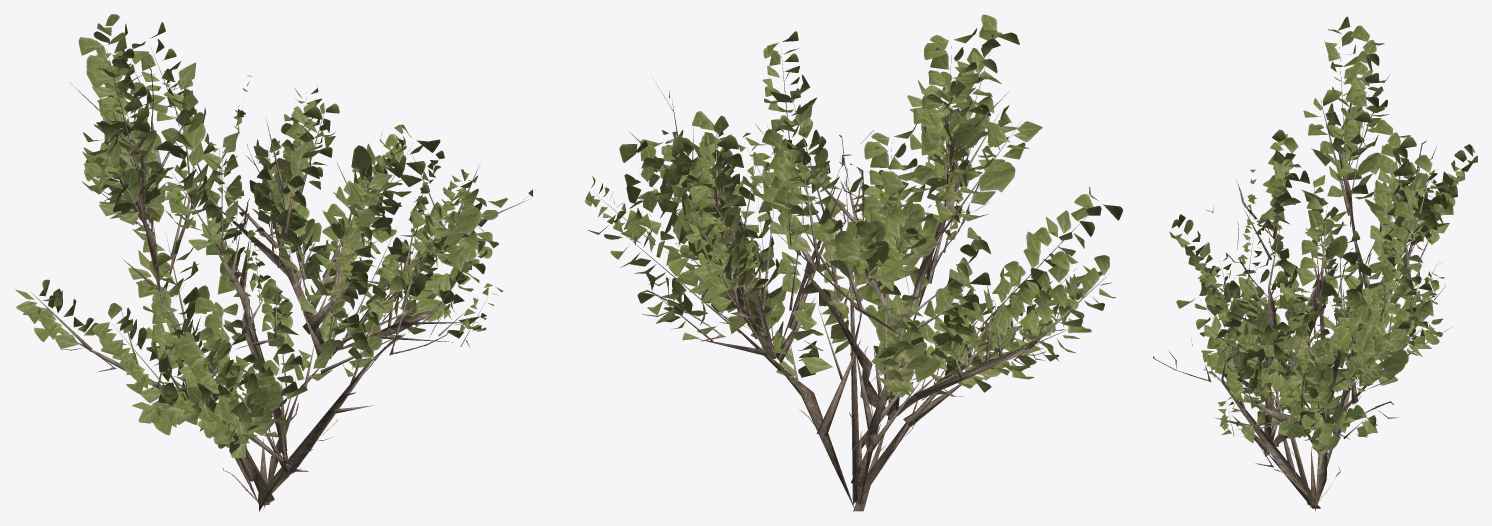
File: nama_searsia_e.glb
The picture shows the model from 3 angles, left to right: view 1: azimuth 30°, elevation 25°; view 2: azimuth 150°, elevation 25°; view 3: azimuth 270°, elevation 25°; orthographic projection. The views are drawn at different scales.
Visible parts, largest first — view 1: nama_searsia_e; view 2: nama_searsia_e; view 3: nama_searsia_e.
Boxes of the visible parts, left/top/right/bottom form: nama_searsia_e: left=15, top=14, right=542, bottom=511; nama_searsia_e: left=585, top=14, right=1123, bottom=511; nama_searsia_e: left=1153, top=16, right=1477, bottom=510.
Size of the model in its own units: 1.44 by 1.42 by 0.9699.
Materials: 3 (3 with a texture image).
